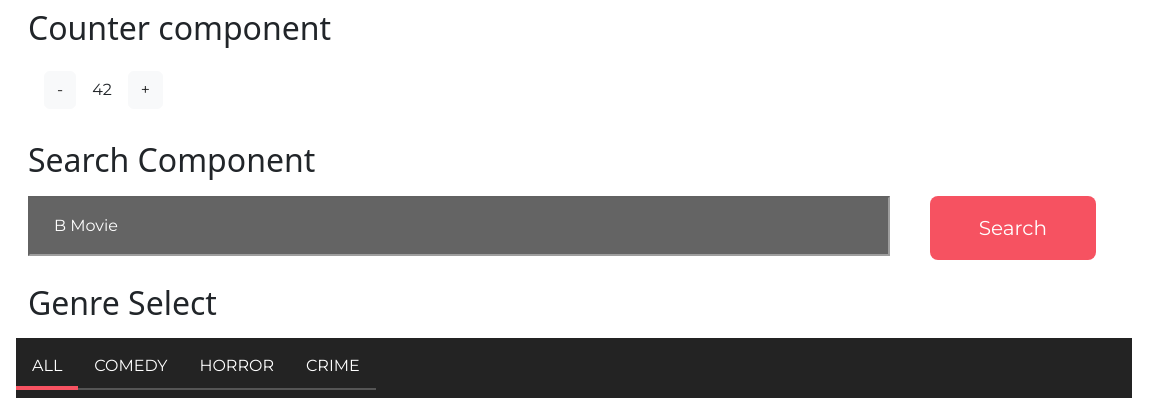
Test: template spec › Counter › decrement value on dec-button click
This screenshot has width=1149, height=415.
expect the text with test id "val" reads "42": met, box [92, 80, 112, 99]
Click the button with test id "dec-button" at [60, 90], box [44, 71, 76, 109]
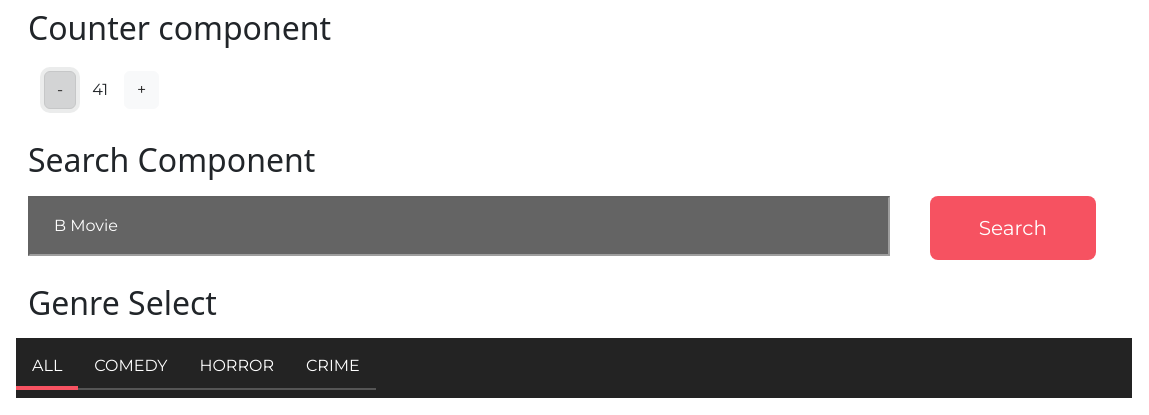
expect the text with test id "val" reads "41": met, box [92, 80, 108, 99]
